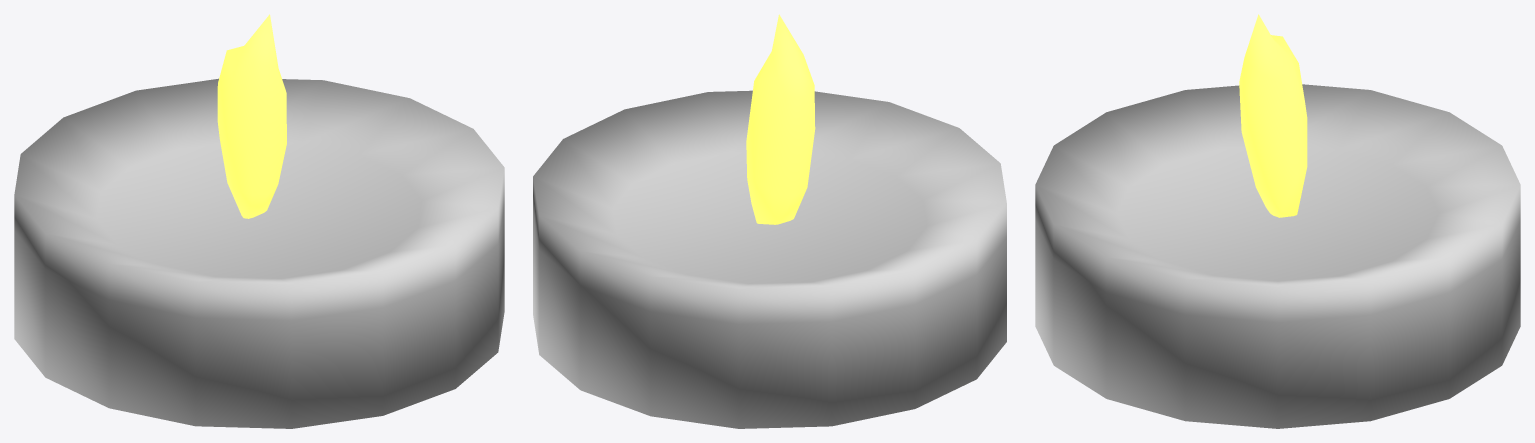
File: candle.glb
The picture shows the model from 3 angles, left to right: view 1: azimuth 30°, elevation 25°; view 2: azimuth 150°, elevation 25°; view 3: azimuth 270°, elevation 25°; orthographic projection. The views are drawn at different scales.
Parts seen in each view (by area): view 1: Icosphere; view 2: Icosphere; view 3: Icosphere.
Boxes of the visible parts, <box> form: Icosphere: <box>14,14,504,428</box>; Icosphere: <box>533,14,1006,428</box>; Icosphere: <box>1035,14,1520,428</box>.
Bounding box in the file's own units: 2 × 1.42 × 2.
